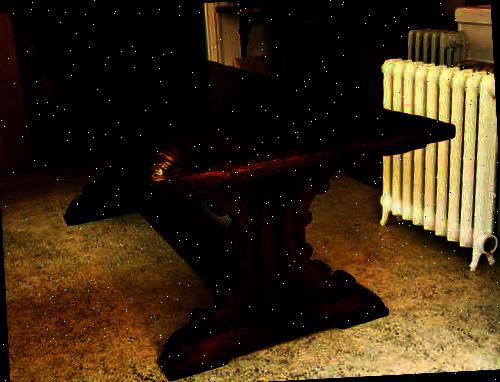Mesa: (28, 36, 465, 381)
